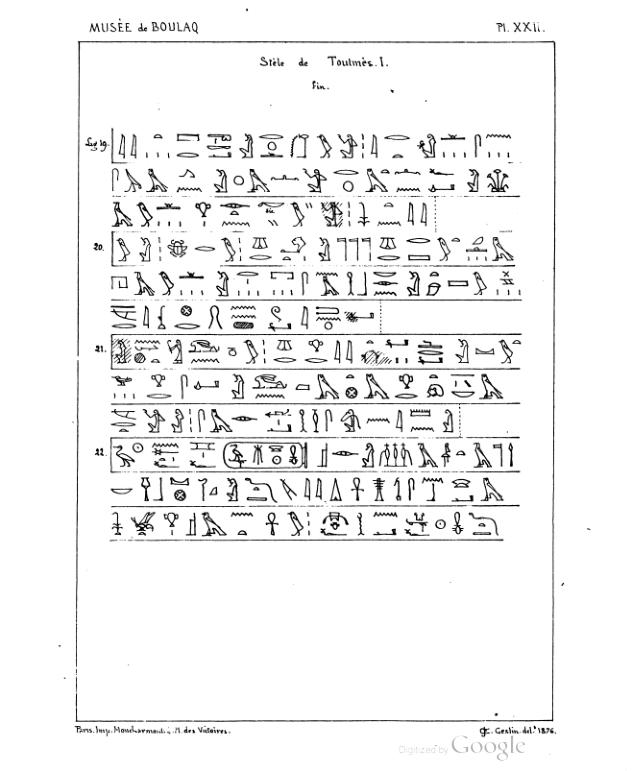circle: (221, 439, 312, 469)
